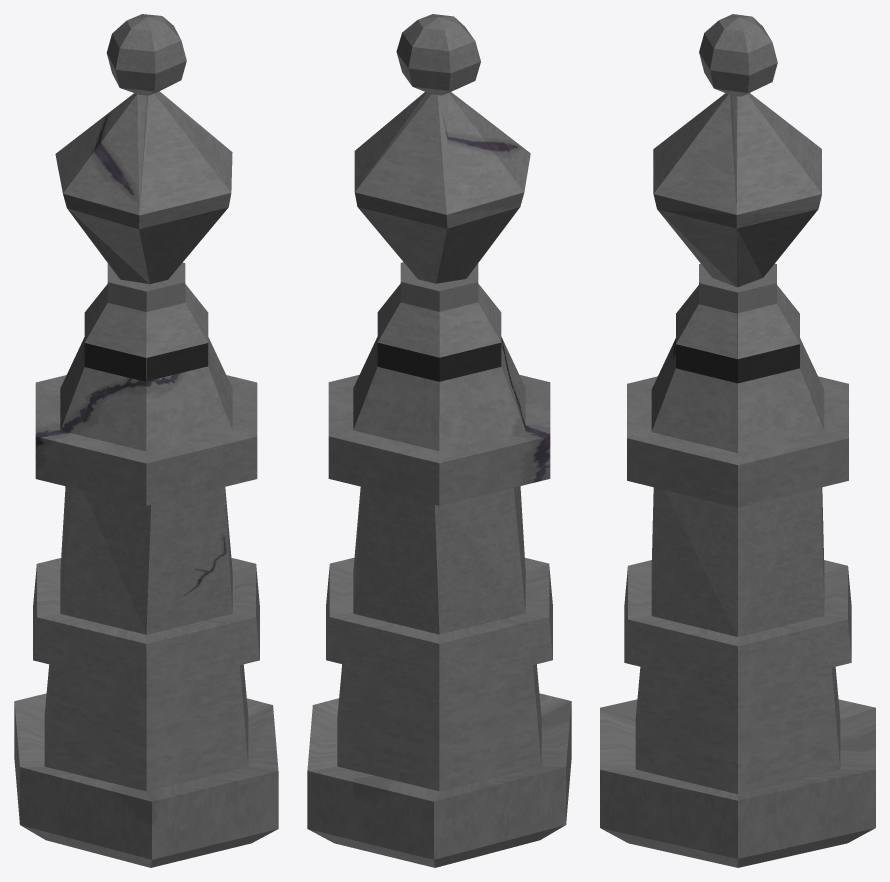
Rendered from ModelBlack.fbx.
The picture shows the model from 3 angles, left to right: view 1: azimuth 30°, elevation 25°; view 2: azimuth 150°, elevation 25°; view 3: azimuth 270°, elevation 25°; orthographic projection.
Visible parts, largest first — view 1: polySurface3; view 2: polySurface3; view 3: polySurface3.
Part boxes in pixels (<box>): polySurface3: <box>14,14,278,867</box>; polySurface3: <box>307,14,571,867</box>; polySurface3: <box>600,14,875,867</box>.
Size of the model in its own units: 2.72 by 8.19 by 2.56.
